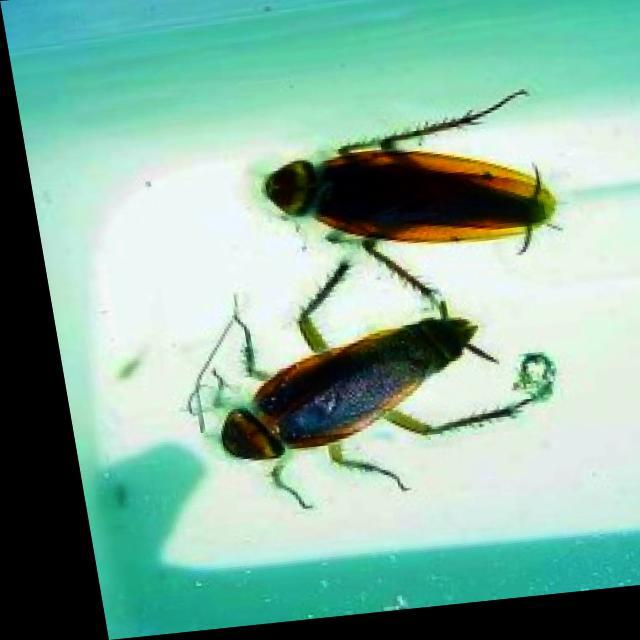cockroach: (168, 264, 530, 515), (239, 100, 594, 276)
